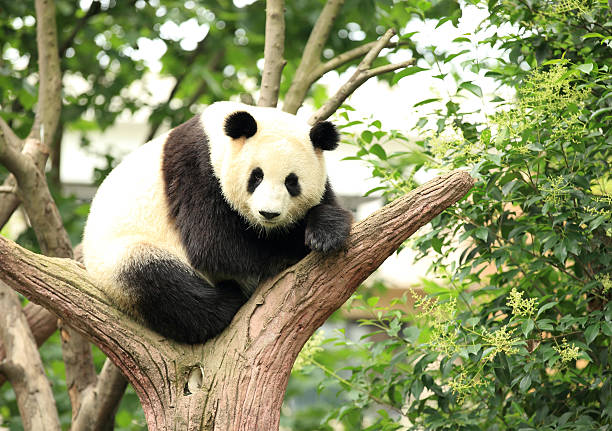panda: (207, 94, 339, 242)
